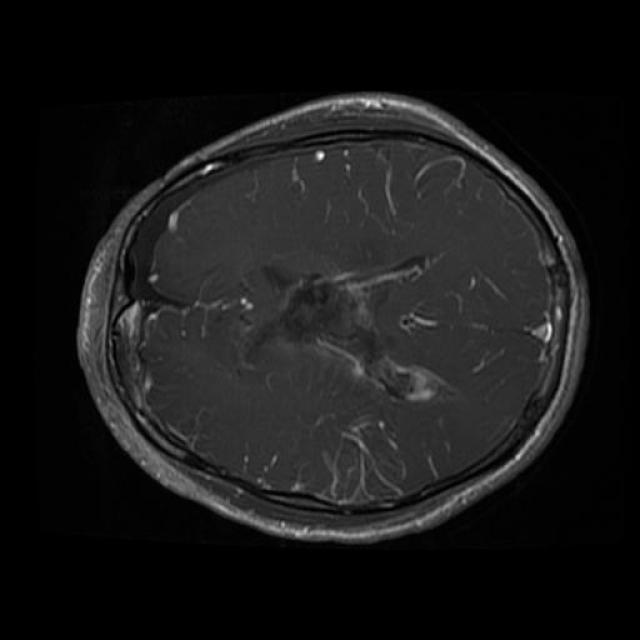Glioma: (263, 276, 376, 353)
